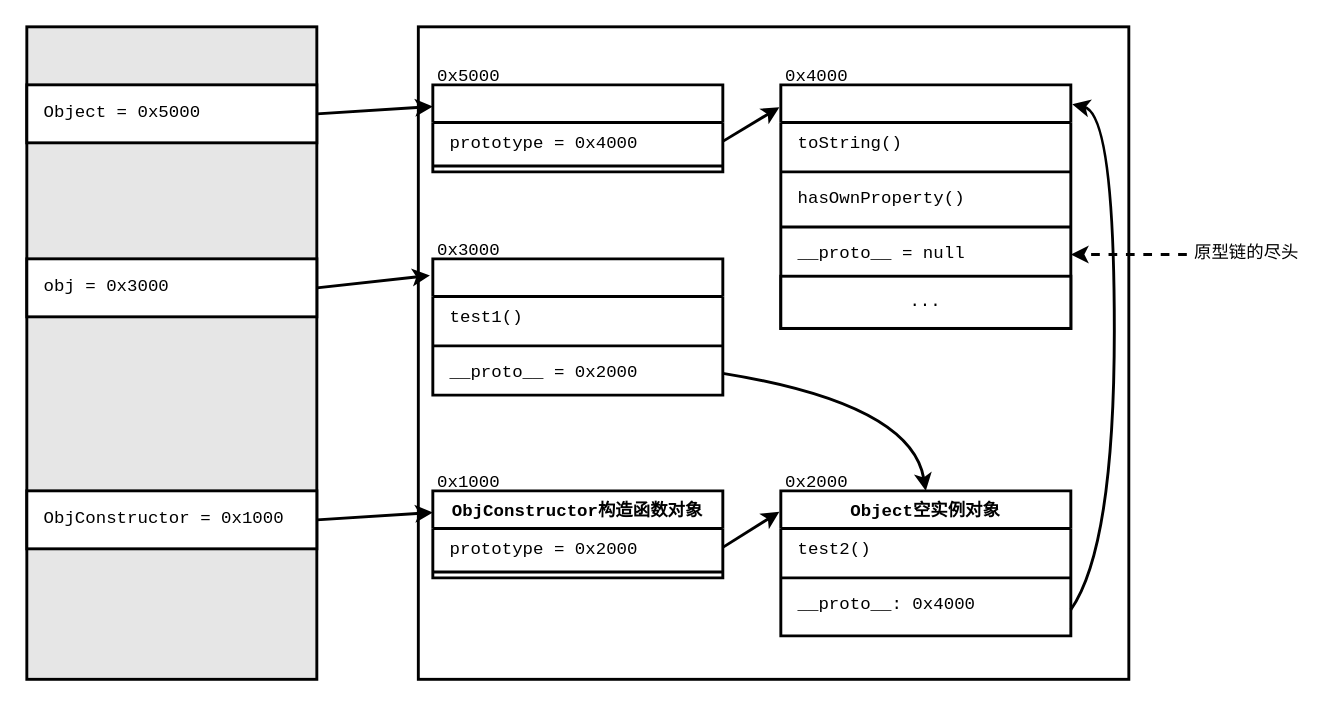
This 1331x705 diagram has some shape labels left out. Each missing label, with the box of its shape:
ObjConstructor的实例对象: (431, 257, 724, 396)
Object构造函数对象: (431, 83, 724, 173)
Object的原型对象: (779, 83, 1072, 329)
